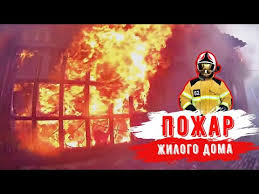fire: (20, 37, 167, 154)
